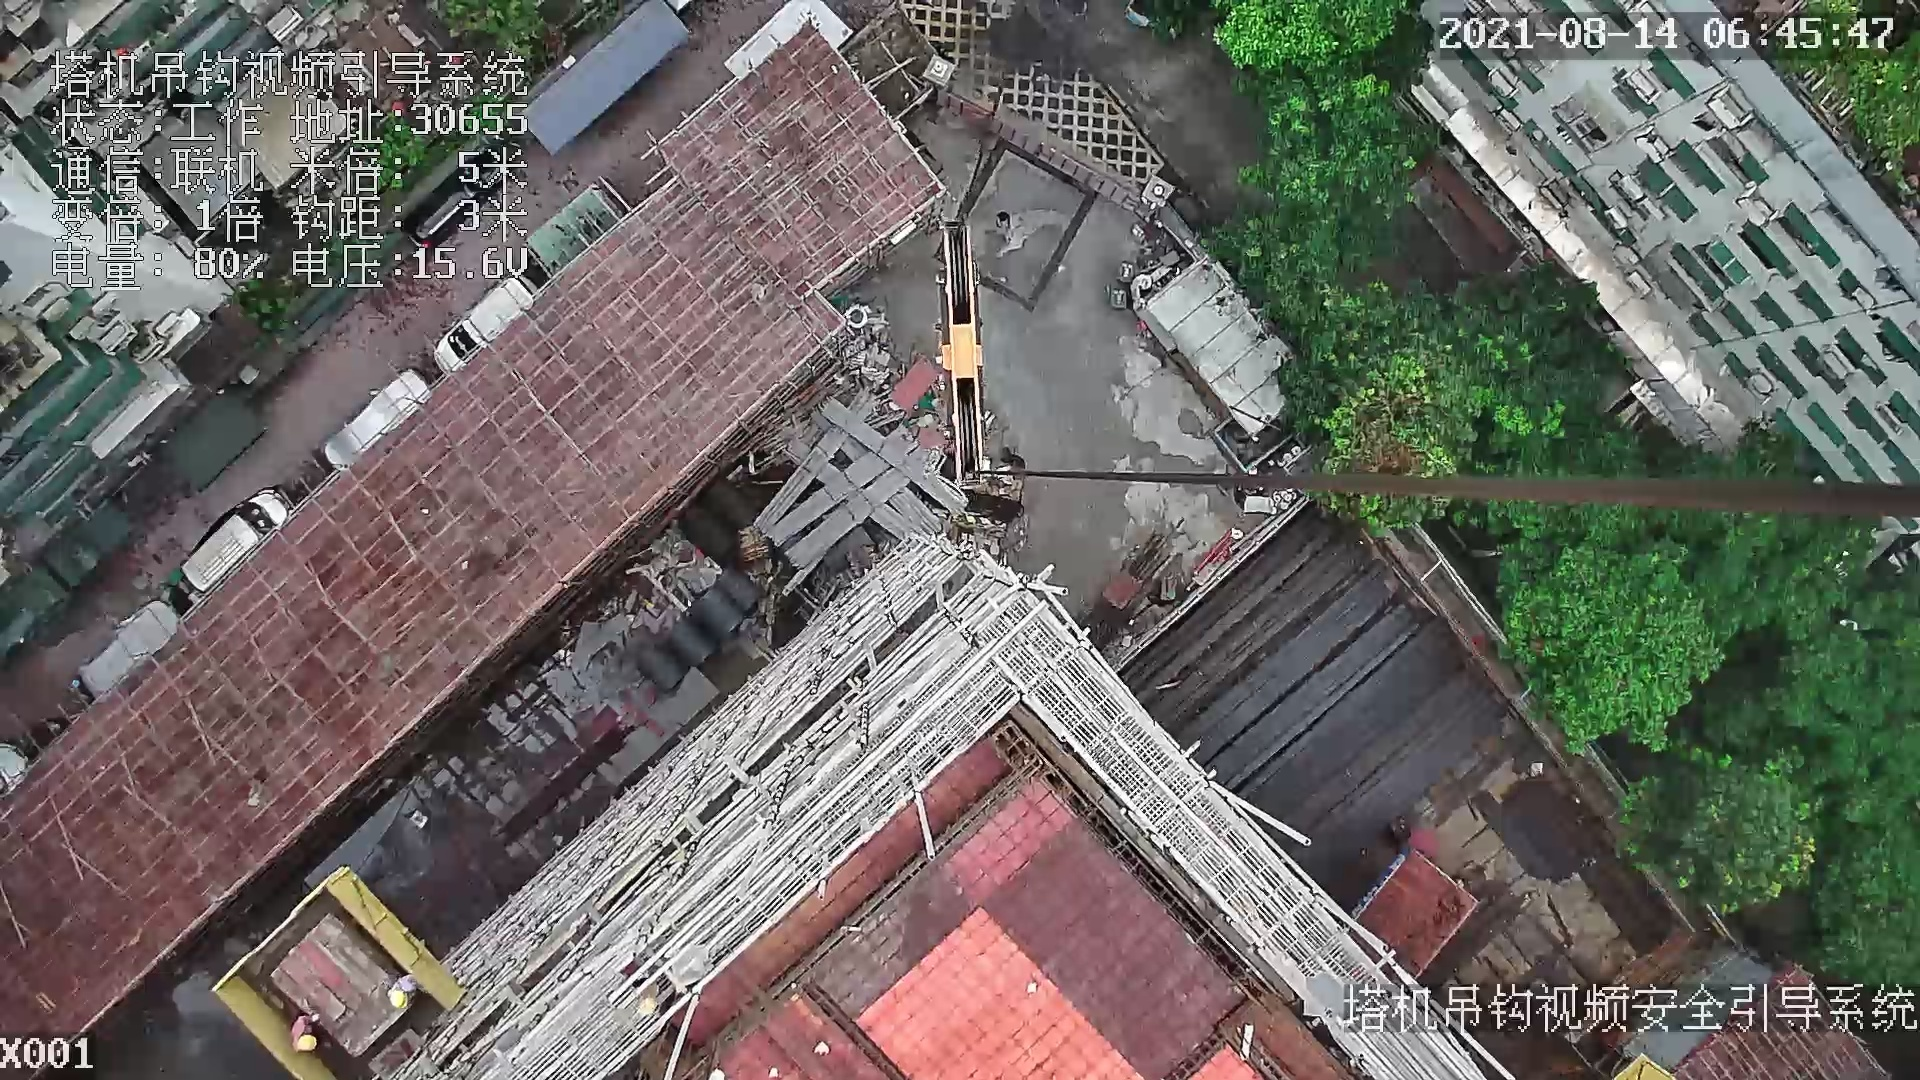helmet: (388, 986, 408, 1005), (296, 1038, 318, 1052)
hook: (915, 219, 990, 492)
person: (368, 974, 412, 1015), (292, 1009, 317, 1059)
